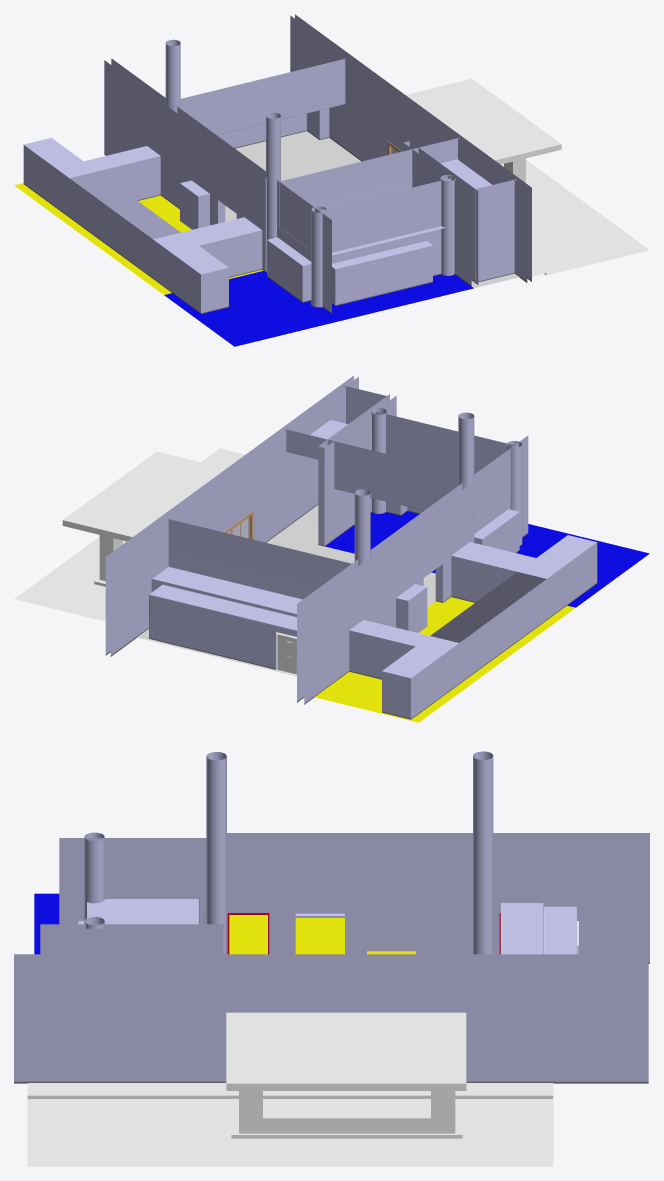
File: LobbyWallsAdjusted.fbx
3 renders of one model, top to bottom at view 1: azimuth 30°, elevation 25°; view 2: azimuth 150°, elevation 25°; view 3: azimuth 270°, elevation 25°, orthographic. The views are drawn at different scales.
Visible parts, largest first — view 1: LobbyWalls_GEO; view 2: LobbyWalls_GEO; view 3: LobbyWalls_GEO.
Boxes of the visible parts, <box> form: LobbyWalls_GEO: <box>14,14,649,346</box>; LobbyWalls_GEO: <box>14,375,649,722</box>; LobbyWalls_GEO: <box>14,751,649,1166</box>.
Size of the model in its own units: 2869 by 1118 by 2860.
